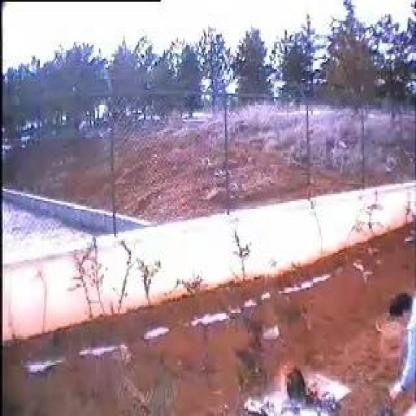-: (290, 365, 303, 387)
foggia-v2-map80-epoch100 - v1 4323: (308, 380, 321, 402)
